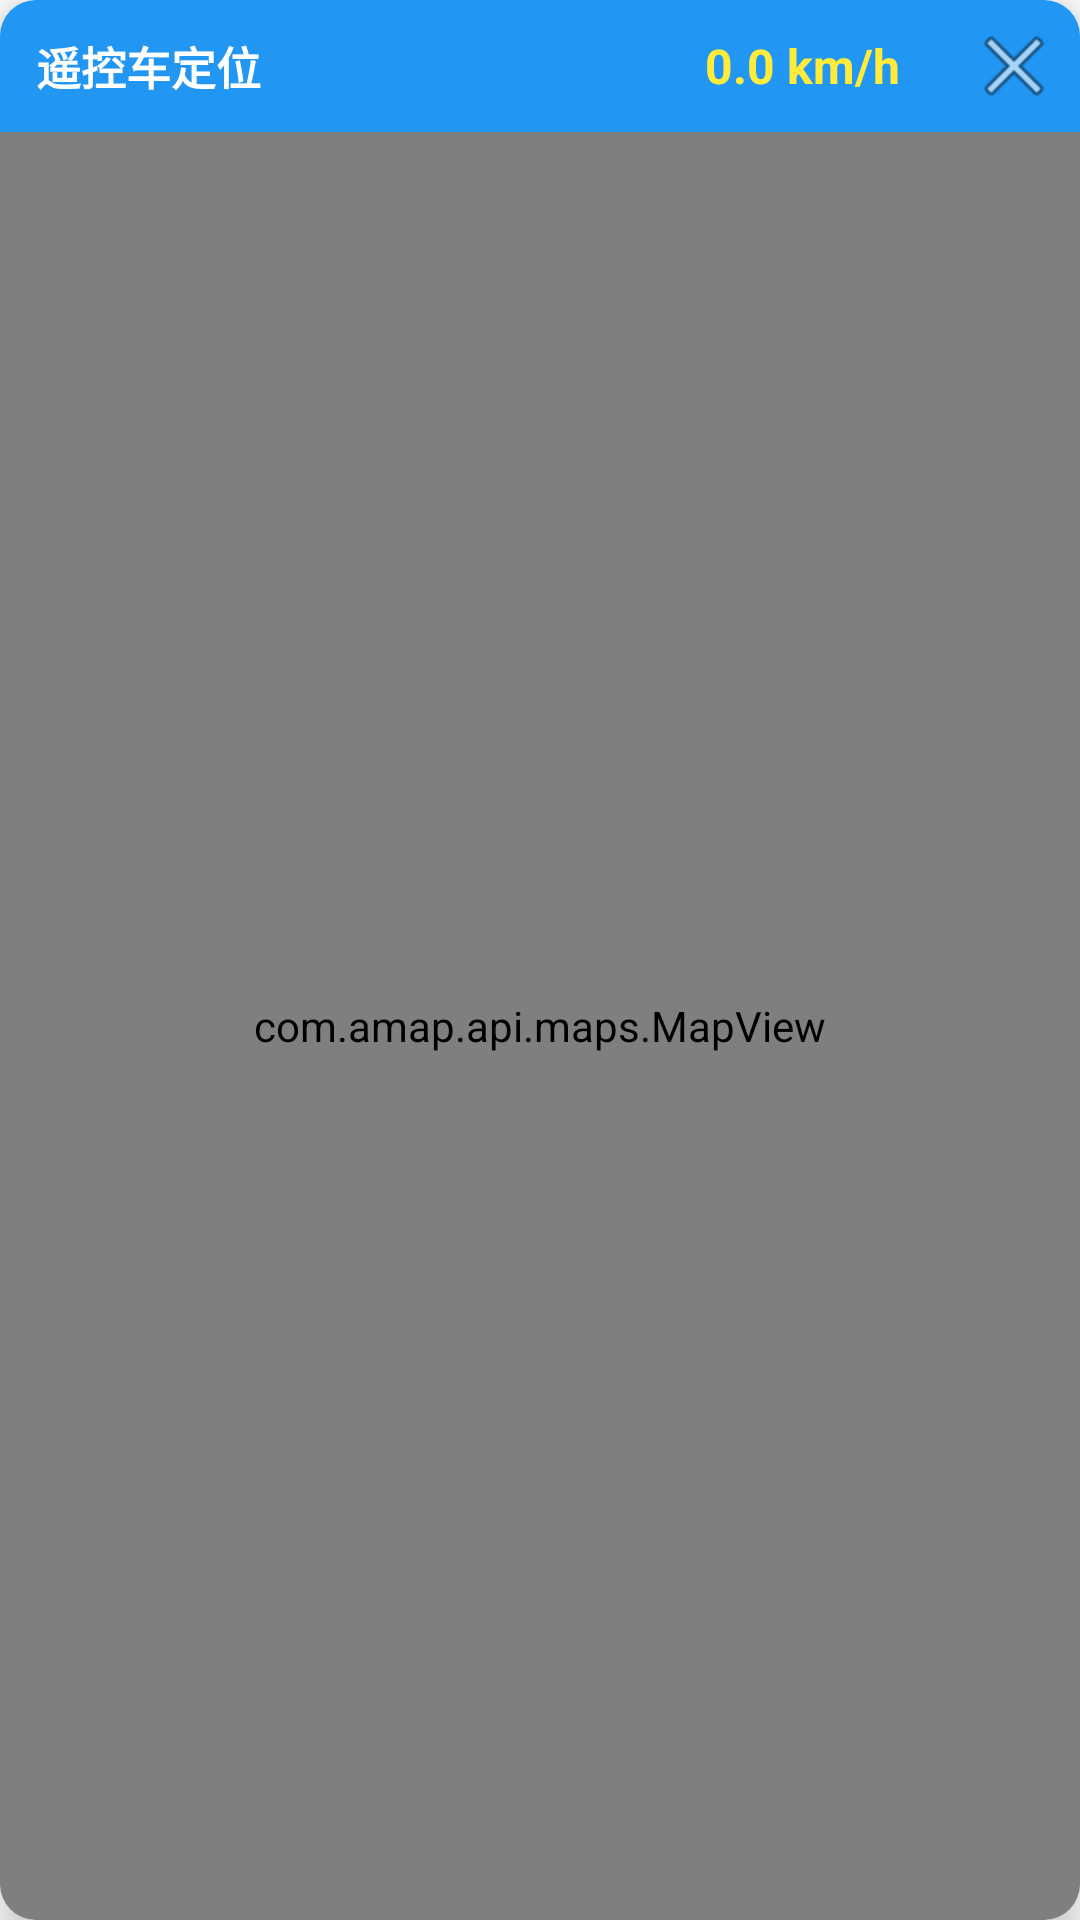

Icon click points for this 1080w x 1920h phone screenshot, format (x=x, y=y):
关闭地图: (x=1014, y=66)
